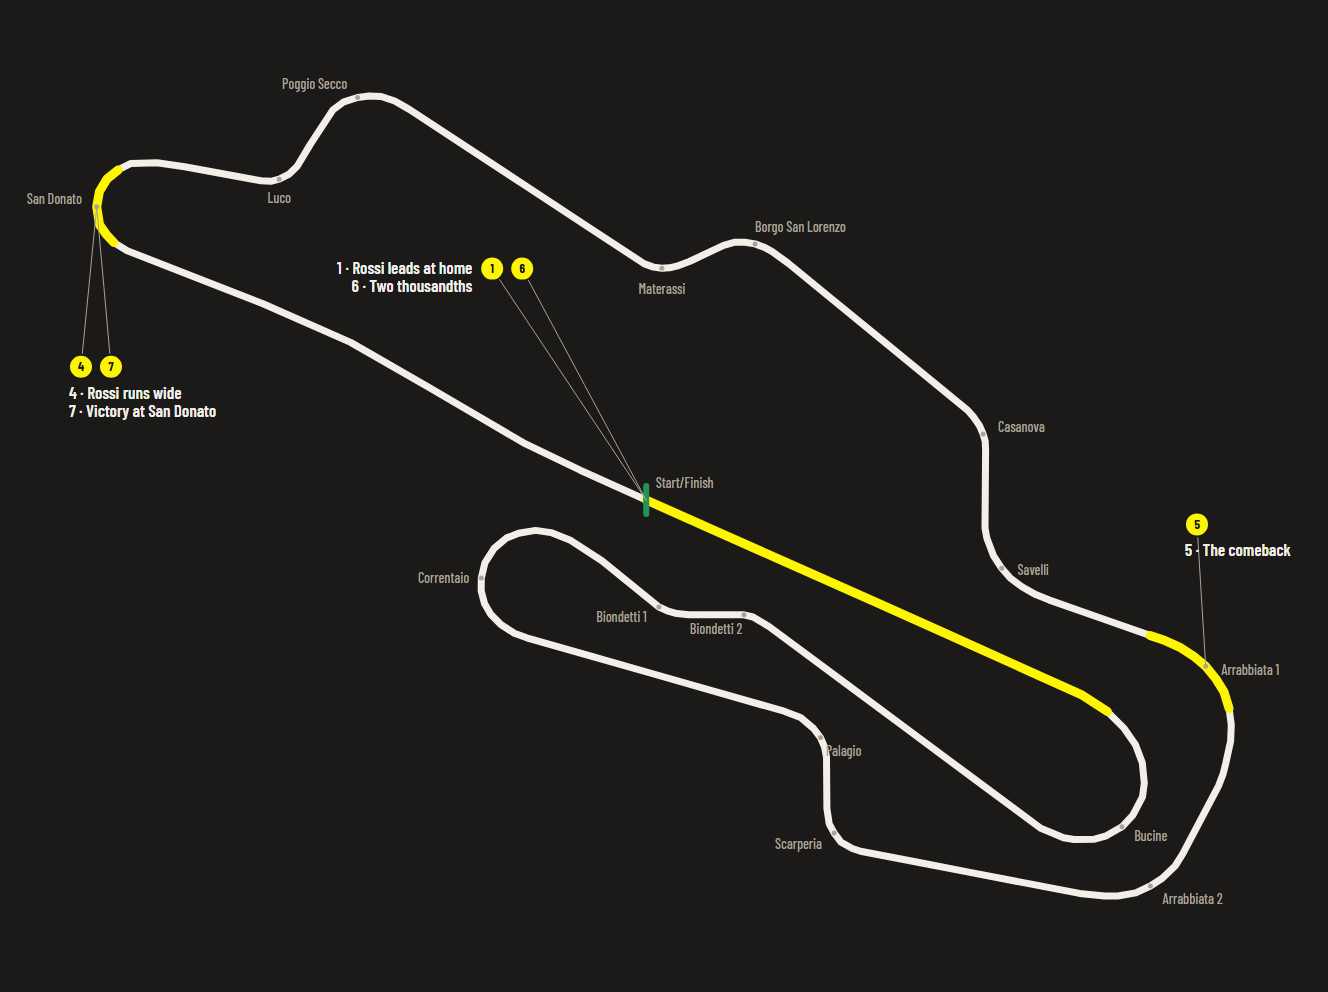

The dashboard page shown, as its layout file describes it:
{"tool":"tableau","page":{"name":"Dashboard 1","canvas":[1500,1100],"ordinal":0},"visuals":[{"type":"worksheet","title":"Sheet 3","mark":"Automatic","box":[8,8,1484,1084]}]}

Visuals, with their boxes in screenshot pixels (x1, y1, x2, y2), scaled from the page's 1500x1100 canvas onto the 1328x992 screenshot:
"Sheet 3" worksheet: bbox=(7, 7, 1321, 985)
